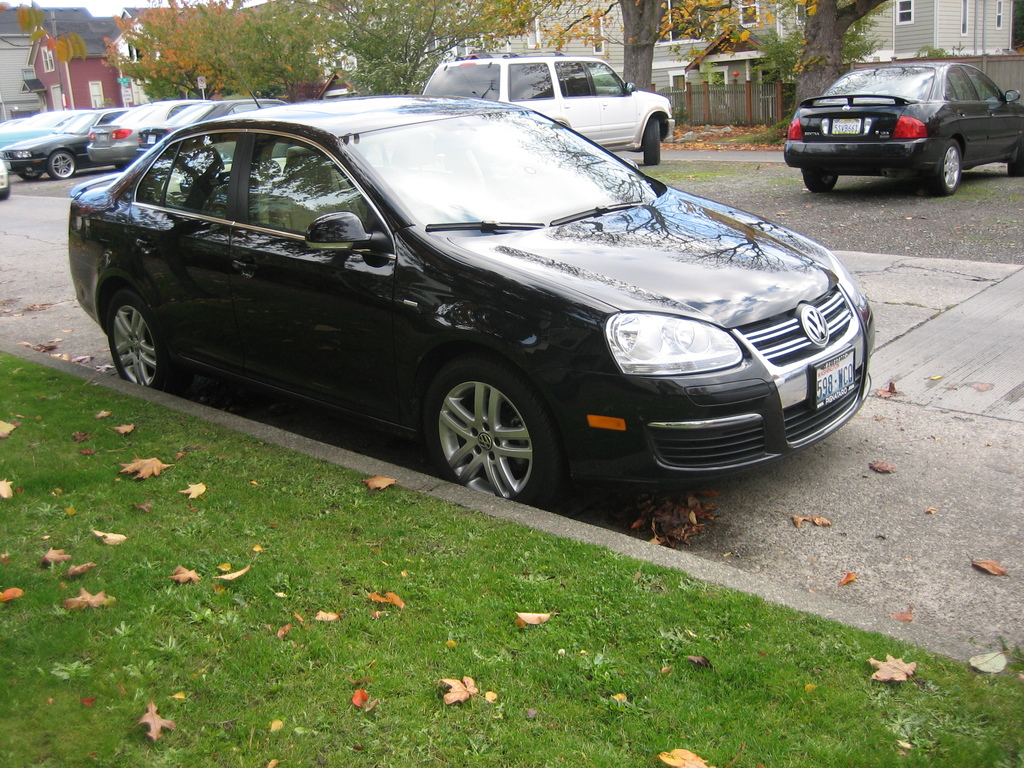Tree: (97, 0, 886, 126)
